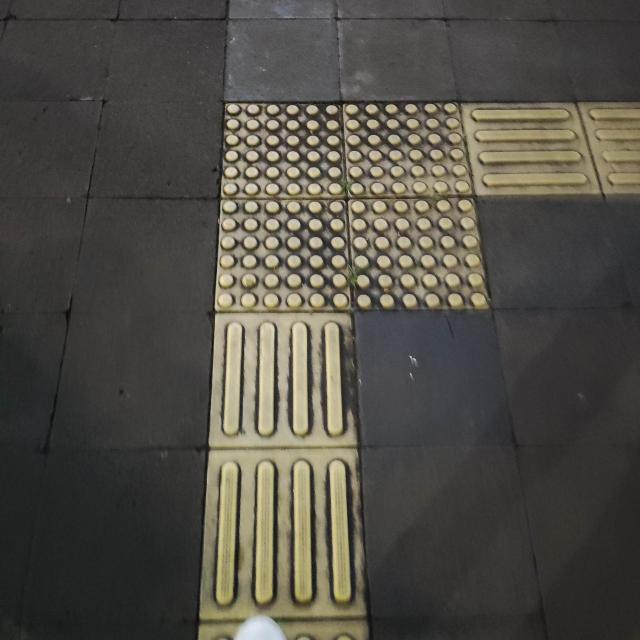kanan: (171, 46, 640, 418)
